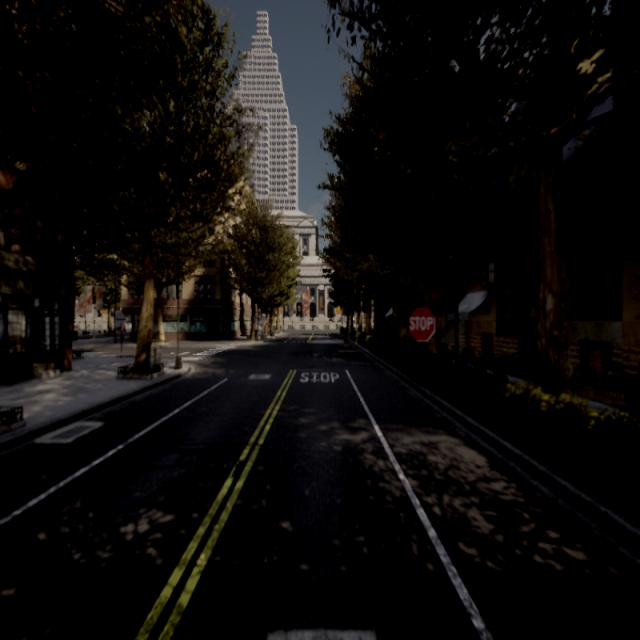stop sign: (407, 304, 438, 345)
